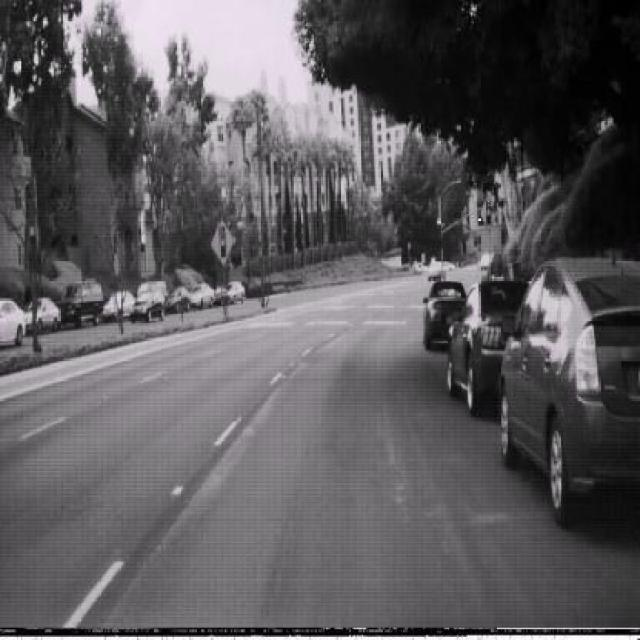signalAhead: (212, 215, 237, 268), (478, 191, 498, 232)
